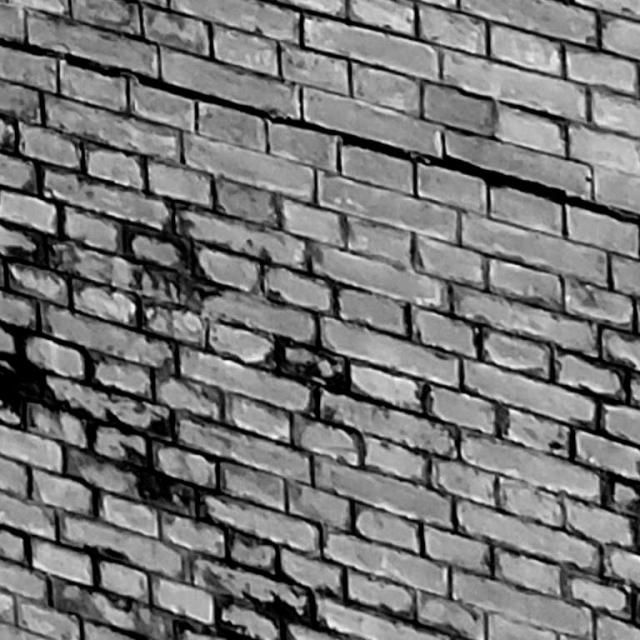crack: (1, 37, 640, 224)
